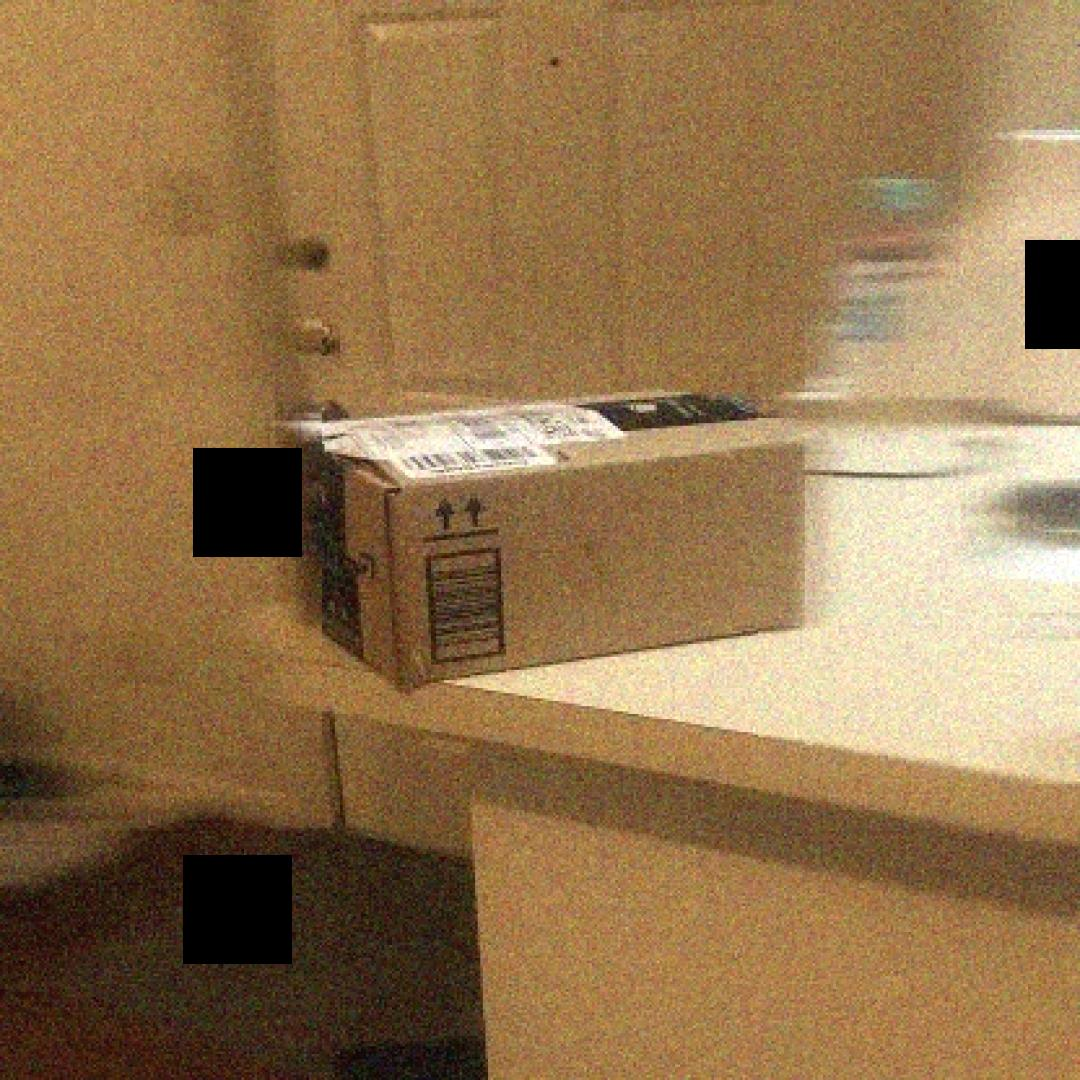package: (267, 387, 823, 698)
